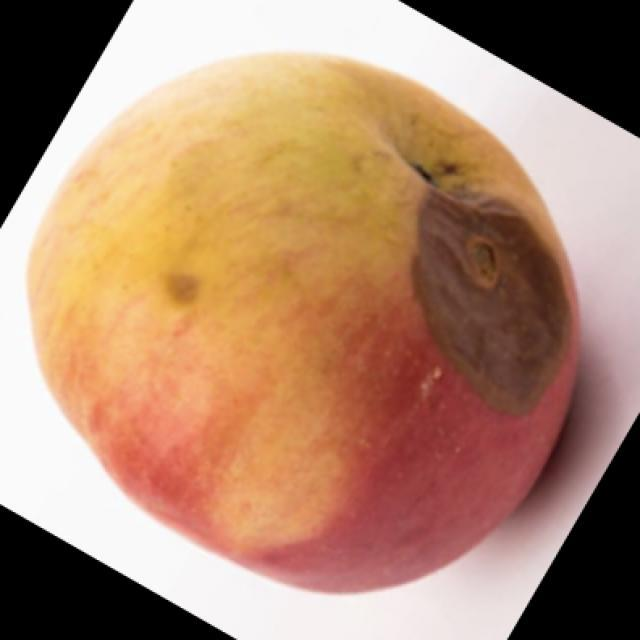Rotten: (64, 67, 578, 573)
